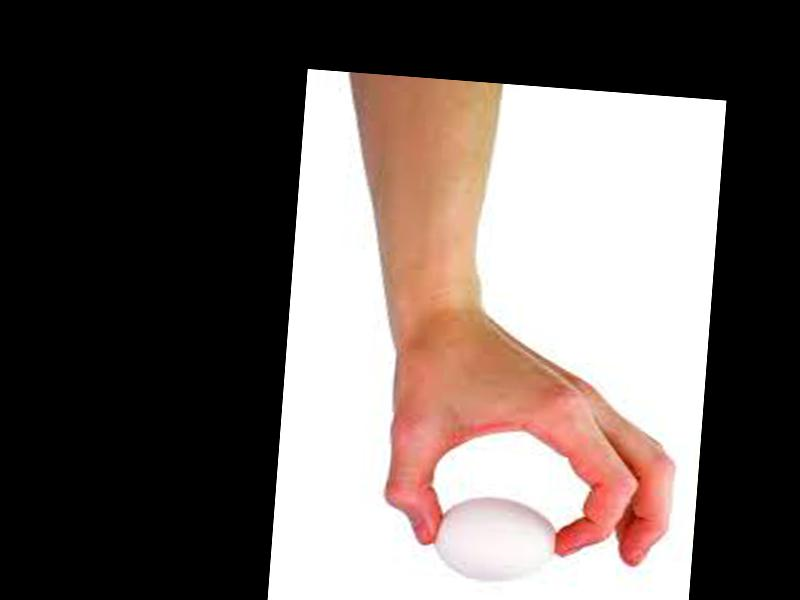Eggs: (432, 493, 560, 586)
